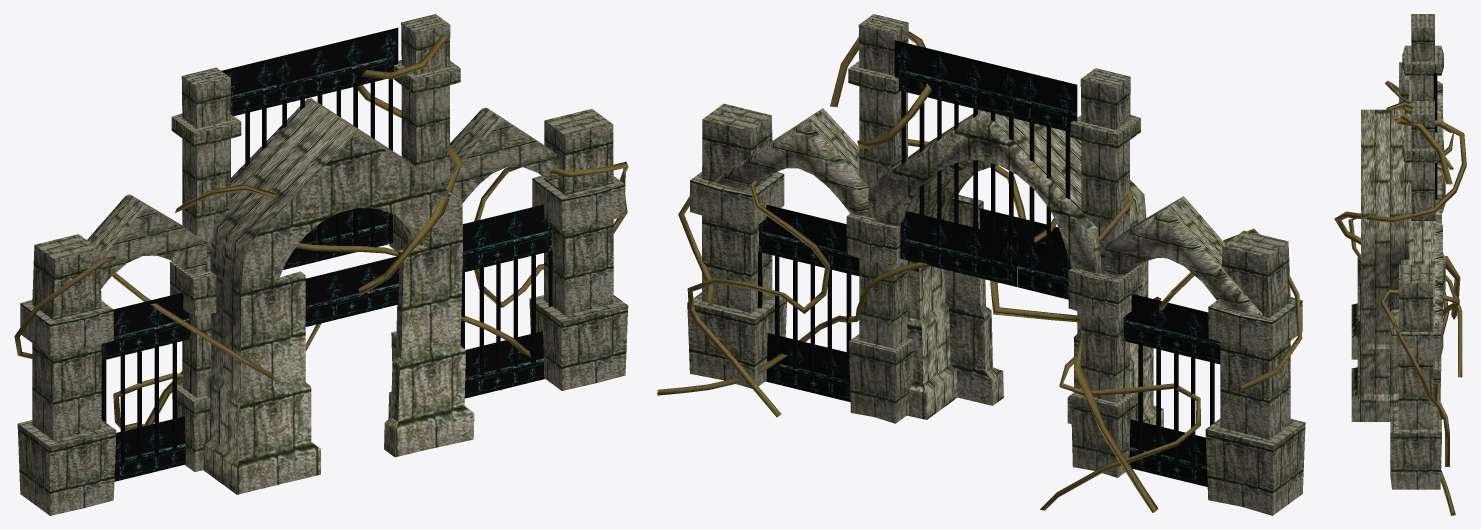
The model's file is INST_MIRK_GATE_UNDEAD.fbx.
3 renders of one model, left to right at view 1: azimuth 30°, elevation 25°; view 2: azimuth 150°, elevation 25°; view 3: azimuth 270°, elevation 25°, orthographic. The views are drawn at different scales.
Visible parts, largest first — view 1: INST_MIRK_GATE_UNDEAD; view 2: INST_MIRK_GATE_UNDEAD; view 3: INST_MIRK_GATE_UNDEAD.
Part boxes in pixels (left/top/right/bottom): INST_MIRK_GATE_UNDEAD: left=14, top=14, right=628, bottom=515; INST_MIRK_GATE_UNDEAD: left=657, top=14, right=1305, bottom=515; INST_MIRK_GATE_UNDEAD: left=1334, top=14, right=1466, bottom=515.
Bounding box in the file's own units: 105477 × 68647 × 24155.
4 materials, 4 textured.
